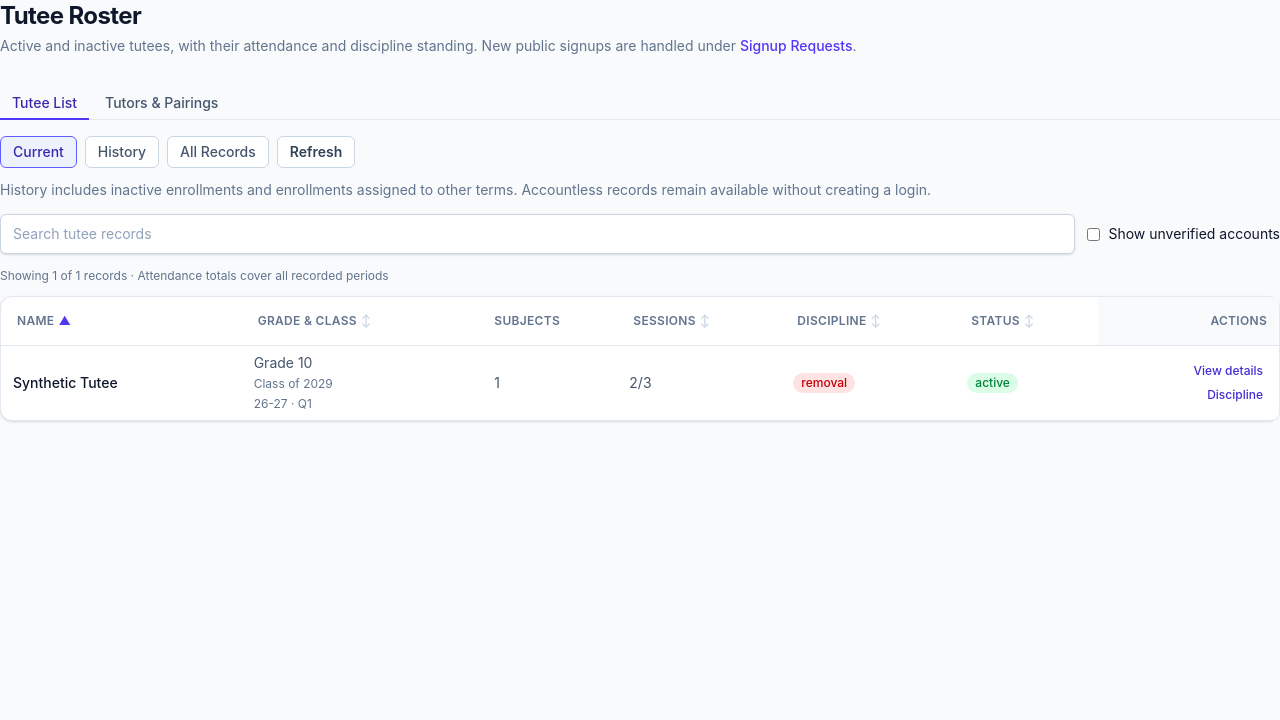
Test case: people summary tables › leaves tutee summary details available in read-only mode without exposing mutations or contact
Expected: the column heading "Actions" is shown, left=1098, top=297, right=1279, bottom=346
Click the button "View details": (1228, 371) left=1190, top=359, right=1267, bottom=383
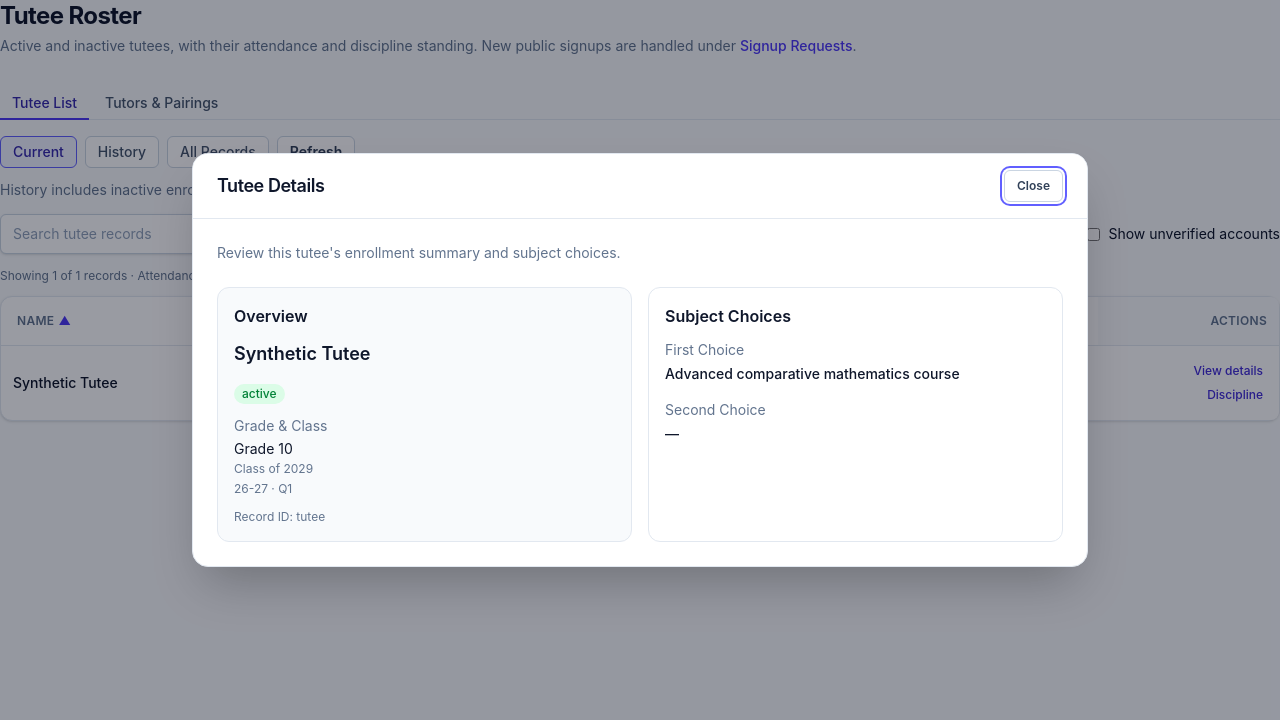
Expected: the text "Advanced comparative mathematics course" is shown, left=665, top=365, right=960, bottom=382
